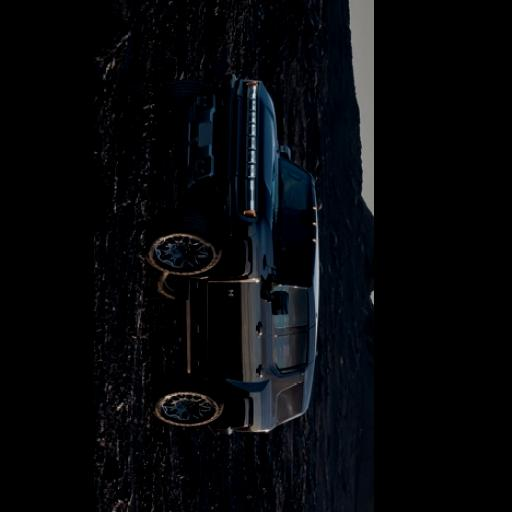suv: (147, 77, 317, 434)
